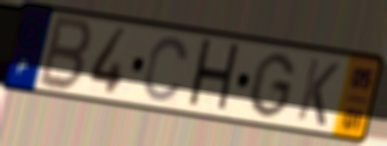4: (85, 25, 129, 98)
B: (35, 13, 96, 95)
C: (141, 34, 191, 105)
G: (245, 50, 298, 121)
H: (184, 36, 243, 117)
K: (293, 55, 343, 129)
